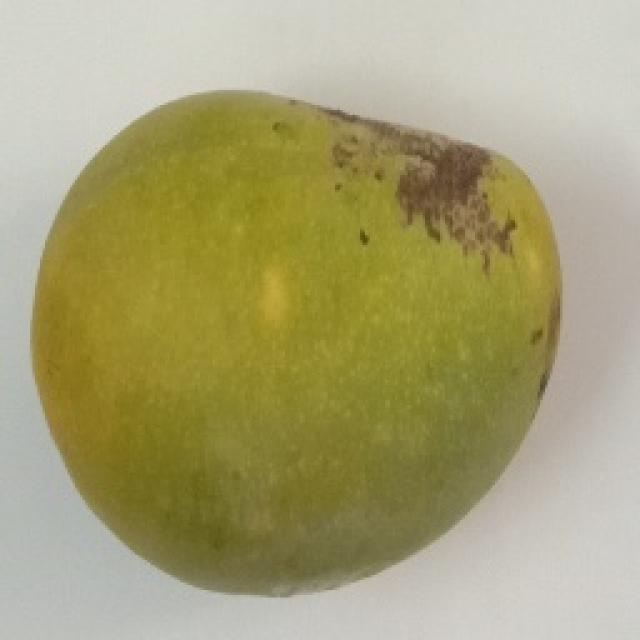defective: (28, 85, 562, 598)
